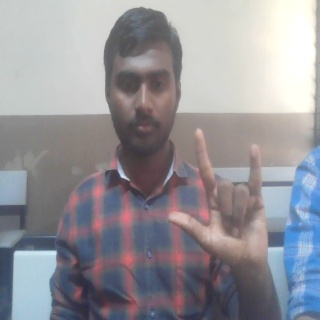Face: (101, 5, 185, 163)
I Love You: (164, 126, 272, 267)
